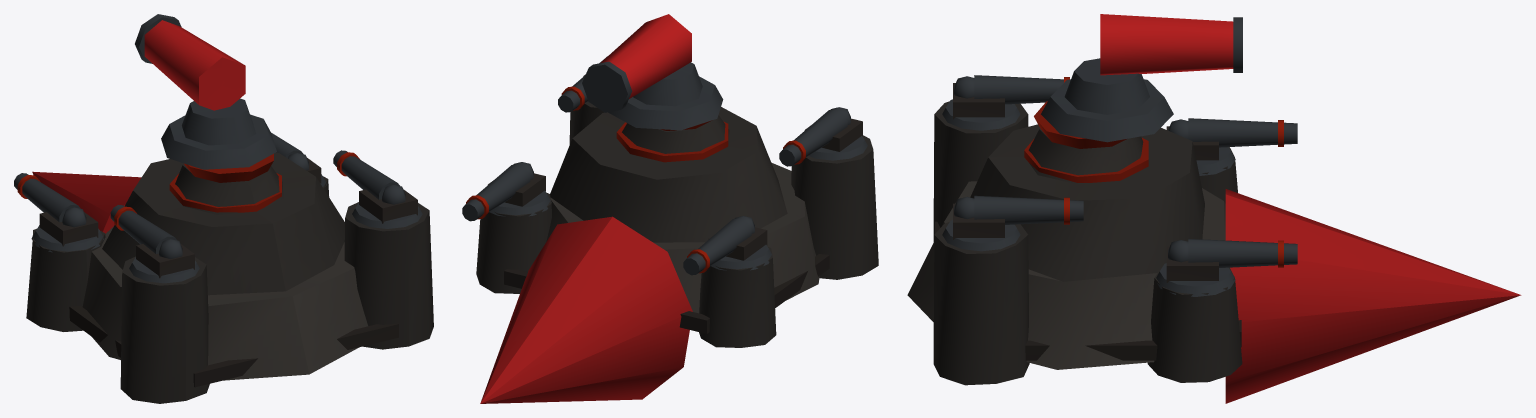
File: boss-islewrath-v2.glb
3 renders of one model, left to right at view 1: azimuth 30°, elevation 25°; view 2: azimuth 150°, elevation 25°; view 3: azimuth 270°, elevation 25°, orthographic. The views are drawn at different scales.
Parts seen in each view (by area): view 1: boss-island-mesh, boss-laser-mesh, boss-gun-mesh-gun_t1, boss-gun-mesh-gun_t3, boss-gun-mesh-gun_t4, boss-gun-mesh-gun_t2; view 2: boss-island-mesh, boss-laser-mesh, boss-gun-mesh-gun_t1, boss-gun-mesh-gun_t2, boss-gun-mesh-gun_t3, boss-gun-mesh-gun_t4; view 3: boss-island-mesh, boss-laser-mesh, boss-gun-mesh-gun_t2, boss-gun-mesh-gun_t4, boss-gun-mesh-gun_t3, boss-gun-mesh-gun_t1.
Part boxes in pixels (bbox=[...]): boss-island-mesh: bbox=[26, 152, 433, 403]; boss-laser-mesh: bbox=[135, 14, 276, 169]; boss-gun-mesh-gun_t1: bbox=[14, 173, 104, 252]; boss-gun-mesh-gun_t3: bbox=[110, 205, 199, 283]; boss-gun-mesh-gun_t4: bbox=[333, 150, 422, 228]; boss-gun-mesh-gun_t2: bbox=[271, 132, 326, 186]; boss-island-mesh: bbox=[476, 102, 878, 403]; boss-laser-mesh: bbox=[582, 14, 723, 130]; boss-gun-mesh-gun_t1: bbox=[683, 216, 772, 275]; boss-gun-mesh-gun_t2: bbox=[462, 162, 551, 221]; boss-gun-mesh-gun_t3: bbox=[779, 107, 867, 166]; boss-gun-mesh-gun_t4: bbox=[558, 56, 607, 112]; boss-island-mesh: bbox=[907, 101, 1521, 403]; boss-laser-mesh: bbox=[1041, 14, 1242, 142]; boss-gun-mesh-gun_t2: bbox=[1156, 238, 1297, 296]; boss-gun-mesh-gun_t4: bbox=[942, 195, 1083, 251]; boss-gun-mesh-gun_t3: bbox=[942, 75, 1069, 130]; boss-gun-mesh-gun_t1: bbox=[1166, 118, 1297, 175].
Bounding box in the file's own units: 1.62 × 1.75 × 2.58.
